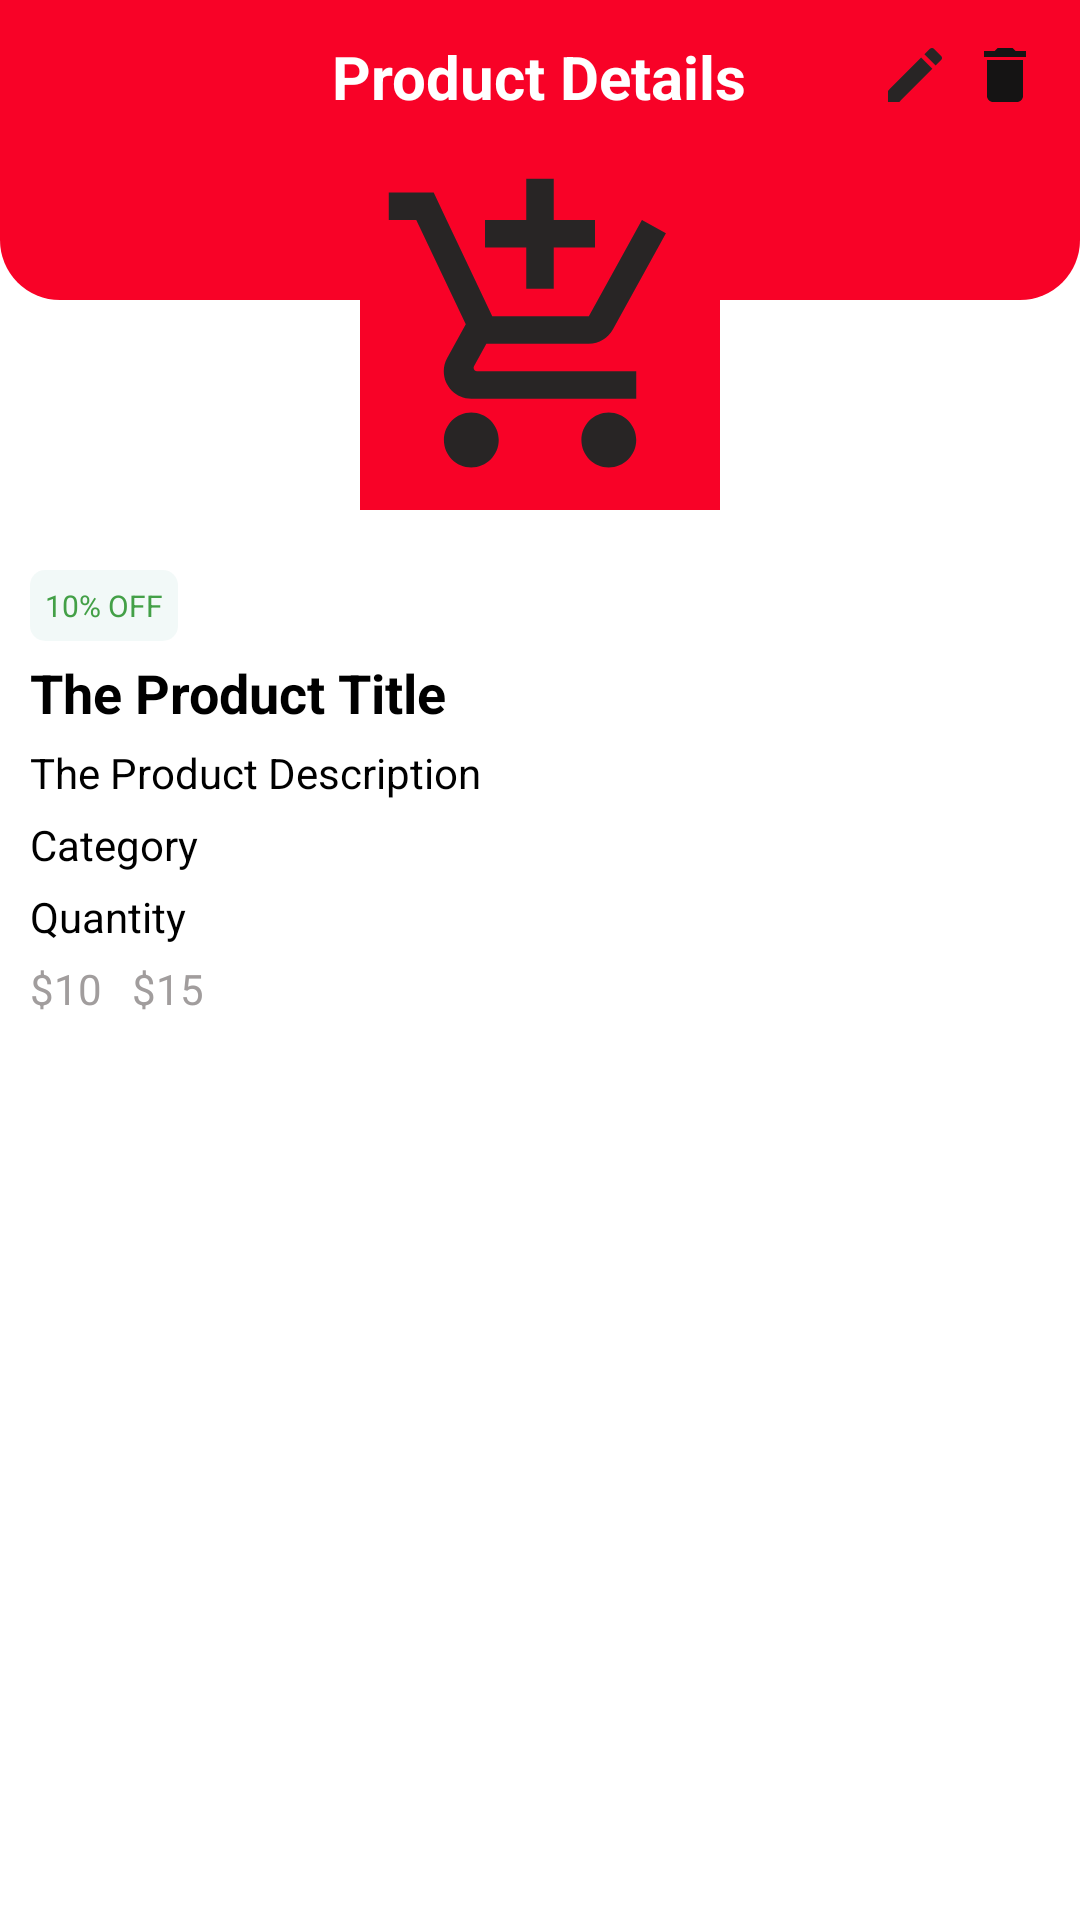

Point at icon controls on the screen. Image size 1080px x 1920px, points as point (x, y).
add shopping cart: point (527, 323)
delete: point (1005, 75)
edit: point (915, 75)
